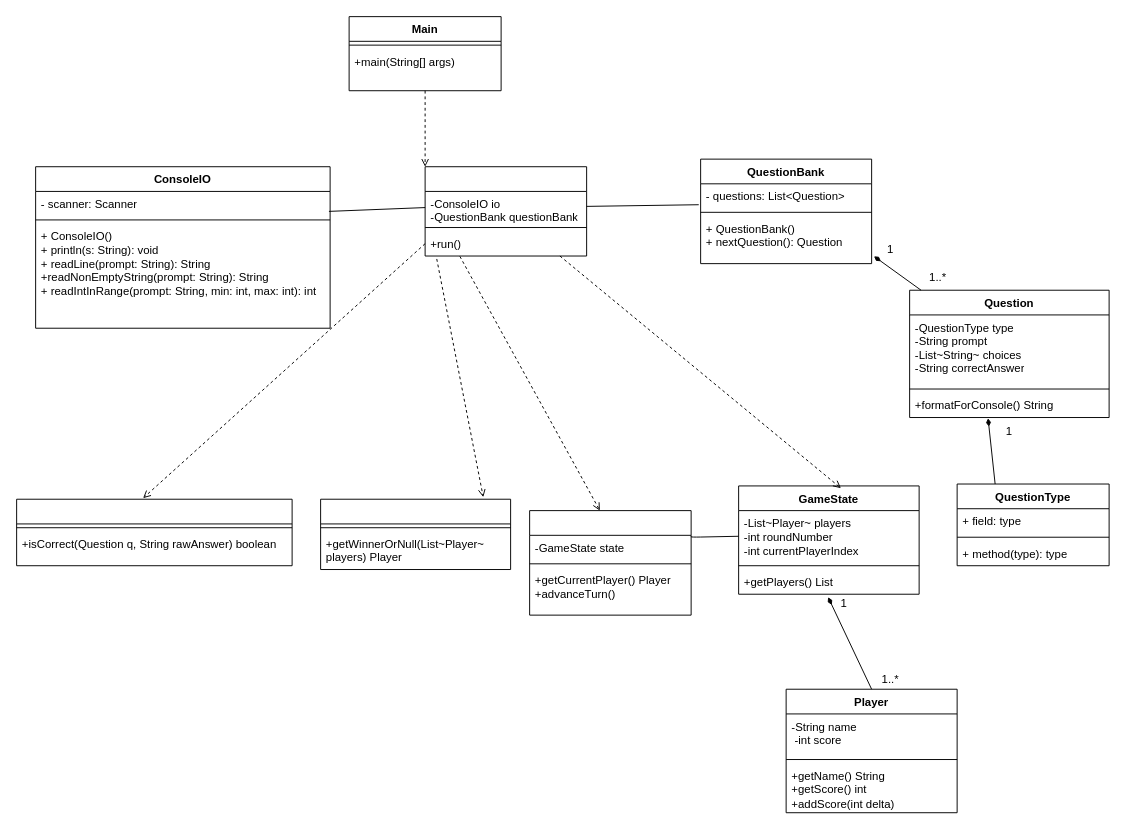
Image size: 1126x832. Some labels were removed from this diagram. The box of each missing label's shape, as (x1, y1, x2, y2) in pixels:
AnswerValidator: (16, 498, 292, 566)
Game: (424, 166, 587, 256)
TurnManager: (529, 510, 691, 615)
WinnerCalculator: (320, 498, 511, 570)
